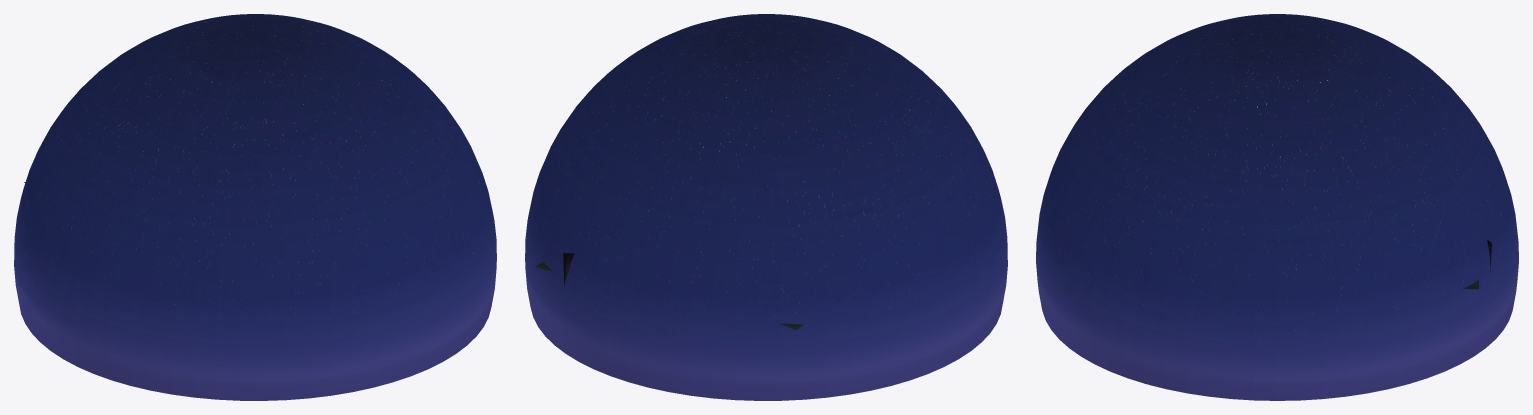
Rendered from camp.glb.
3 renders of one model, left to right at view 1: azimuth 30°, elevation 25°; view 2: azimuth 150°, elevation 25°; view 3: azimuth 270°, elevation 25°, orthographic.
Visible parts, largest first — view 1: EMIT_sky; view 2: EMIT_sky; view 3: EMIT_sky.
Part boxes in pixels (<box>): EMIT_sky: <box>14,14,496,400</box>; EMIT_sky: <box>525,14,1007,400</box>; EMIT_sky: <box>1036,14,1518,400</box>.
Size of the model in its own units: 192 by 116 by 192.
13 materials, 8 textured.
